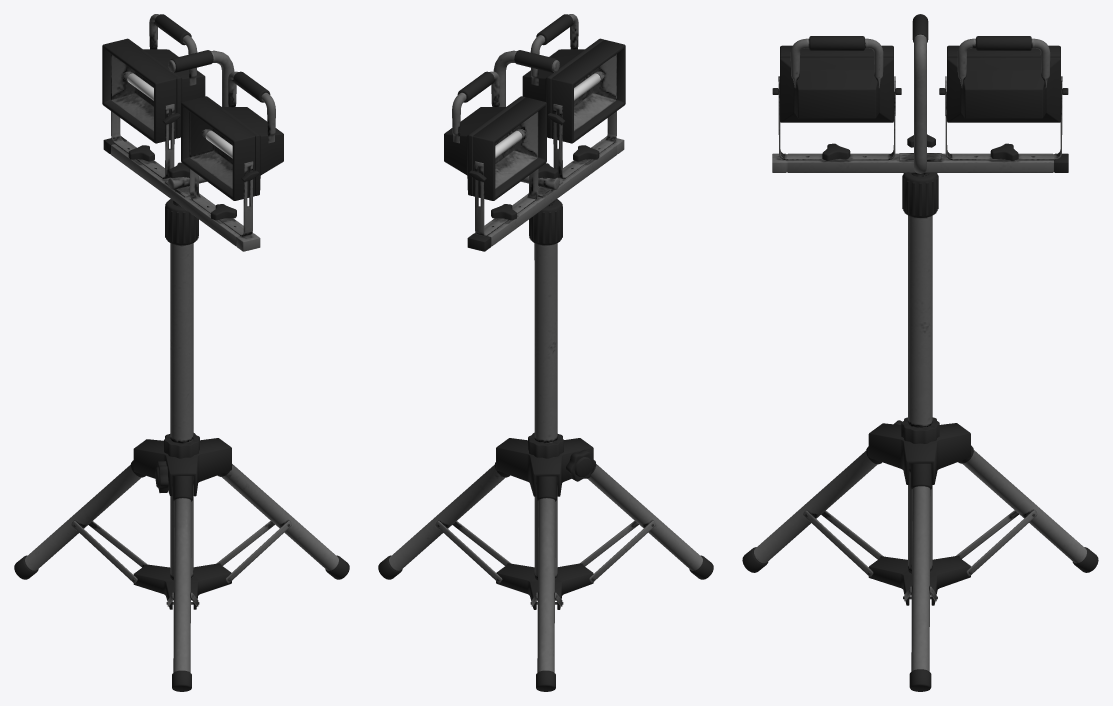
Rendered from MeConstructionLight.fbx.
3 views of the same model, side by side, from view 1: azimuth 30°, elevation 25°; view 2: azimuth 150°, elevation 25°; view 3: azimuth 270°, elevation 25° (orthographic). The views are drawn at different scales.
Parts seen in each view (by area): view 1: Legs, Light_LeftDetachPart, Light_RightDetachPart, LeftPivot, RightPivot; view 2: Legs, Light_RightDetachPart, Light_LeftDetachPart, RightPivot, LeftPivot; view 3: Legs, Light_RightDetachPart, Light_LeftDetachPart, RightPivot, LeftPivot.
Boxes of the visible parts, <box> form: Legs: <box>14,50,349,691</box>; Light_LeftDetachPart: <box>181,71,283,200</box>; Light_RightDetachPart: <box>102,14,205,143</box>; LeftPivot: <box>189,161,259,236</box>; RightPivot: <box>111,104,180,178</box>; Legs: <box>378,50,713,691</box>; Light_RightDetachPart: <box>444,71,546,200</box>; Light_LeftDetachPart: <box>522,14,625,143</box>; RightPivot: <box>468,161,538,236</box>; LeftPivot: <box>547,104,616,178</box>; Legs: <box>742,14,1098,691</box>; Light_RightDetachPart: <box>947,36,1060,122</box>; Light_LeftDetachPart: <box>780,36,893,122</box>; RightPivot: <box>939,76,1068,160</box>; LeftPivot: <box>772,76,901,160</box>.
Size of the model in its own units: 79.05 by 166 by 90.42.
